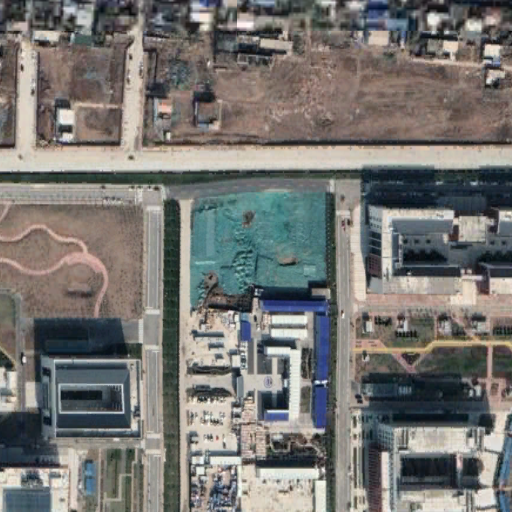cw: (188, 189, 332, 314)
